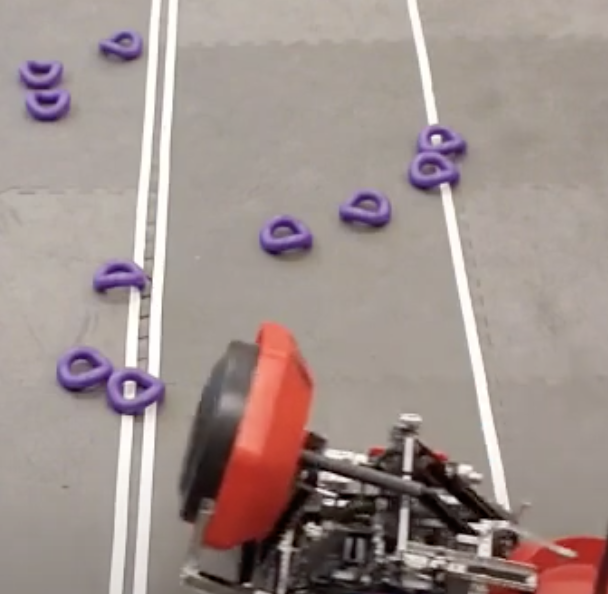ring: (106, 368, 166, 413), (57, 346, 113, 391), (259, 215, 313, 254), (339, 188, 391, 227), (410, 151, 460, 189), (92, 259, 146, 292), (416, 124, 466, 155), (98, 28, 143, 60), (25, 89, 70, 120), (18, 58, 63, 88)
